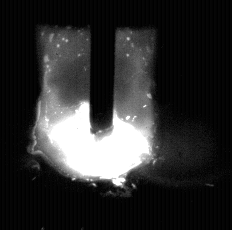arame: (91, 0, 116, 142)
poca: (47, 0, 147, 230)
